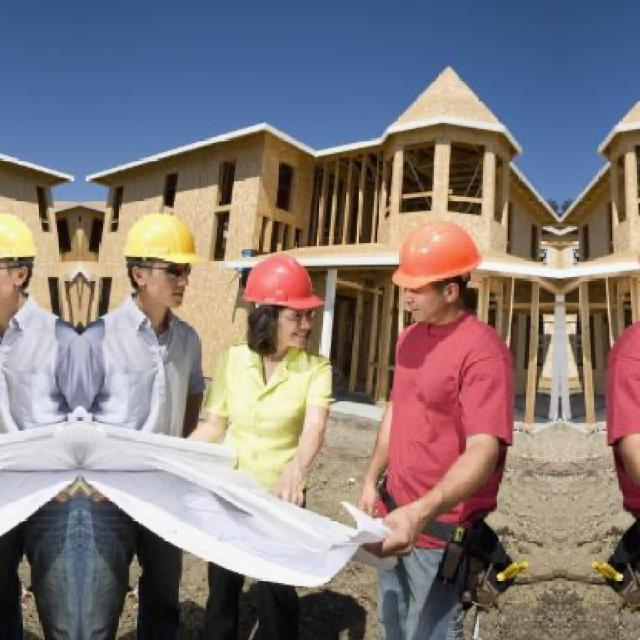con casco: (92, 210, 230, 374), (246, 229, 341, 373), (381, 220, 501, 312), (2, 212, 60, 342)
